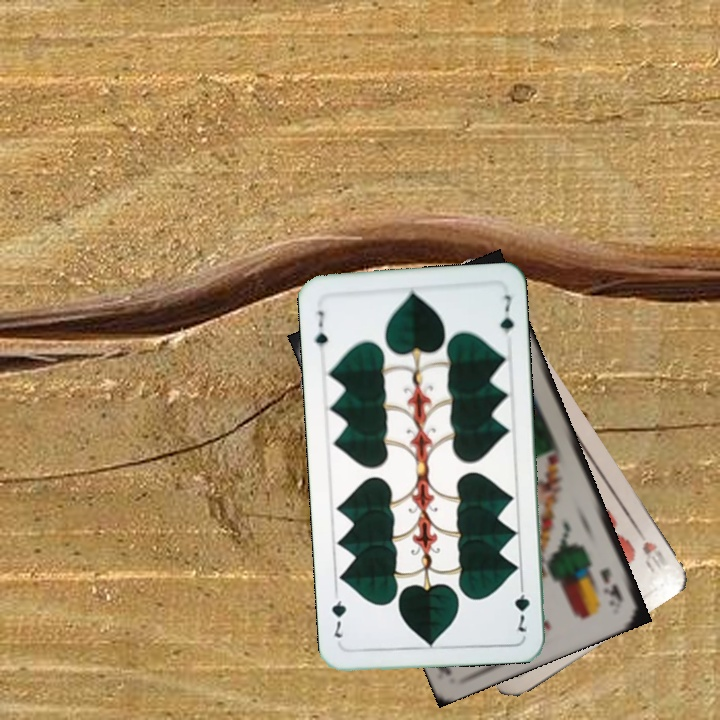EK: (595, 564, 626, 604)
G7: (510, 577, 532, 635), (310, 307, 331, 357)
H10: (630, 522, 675, 575)
